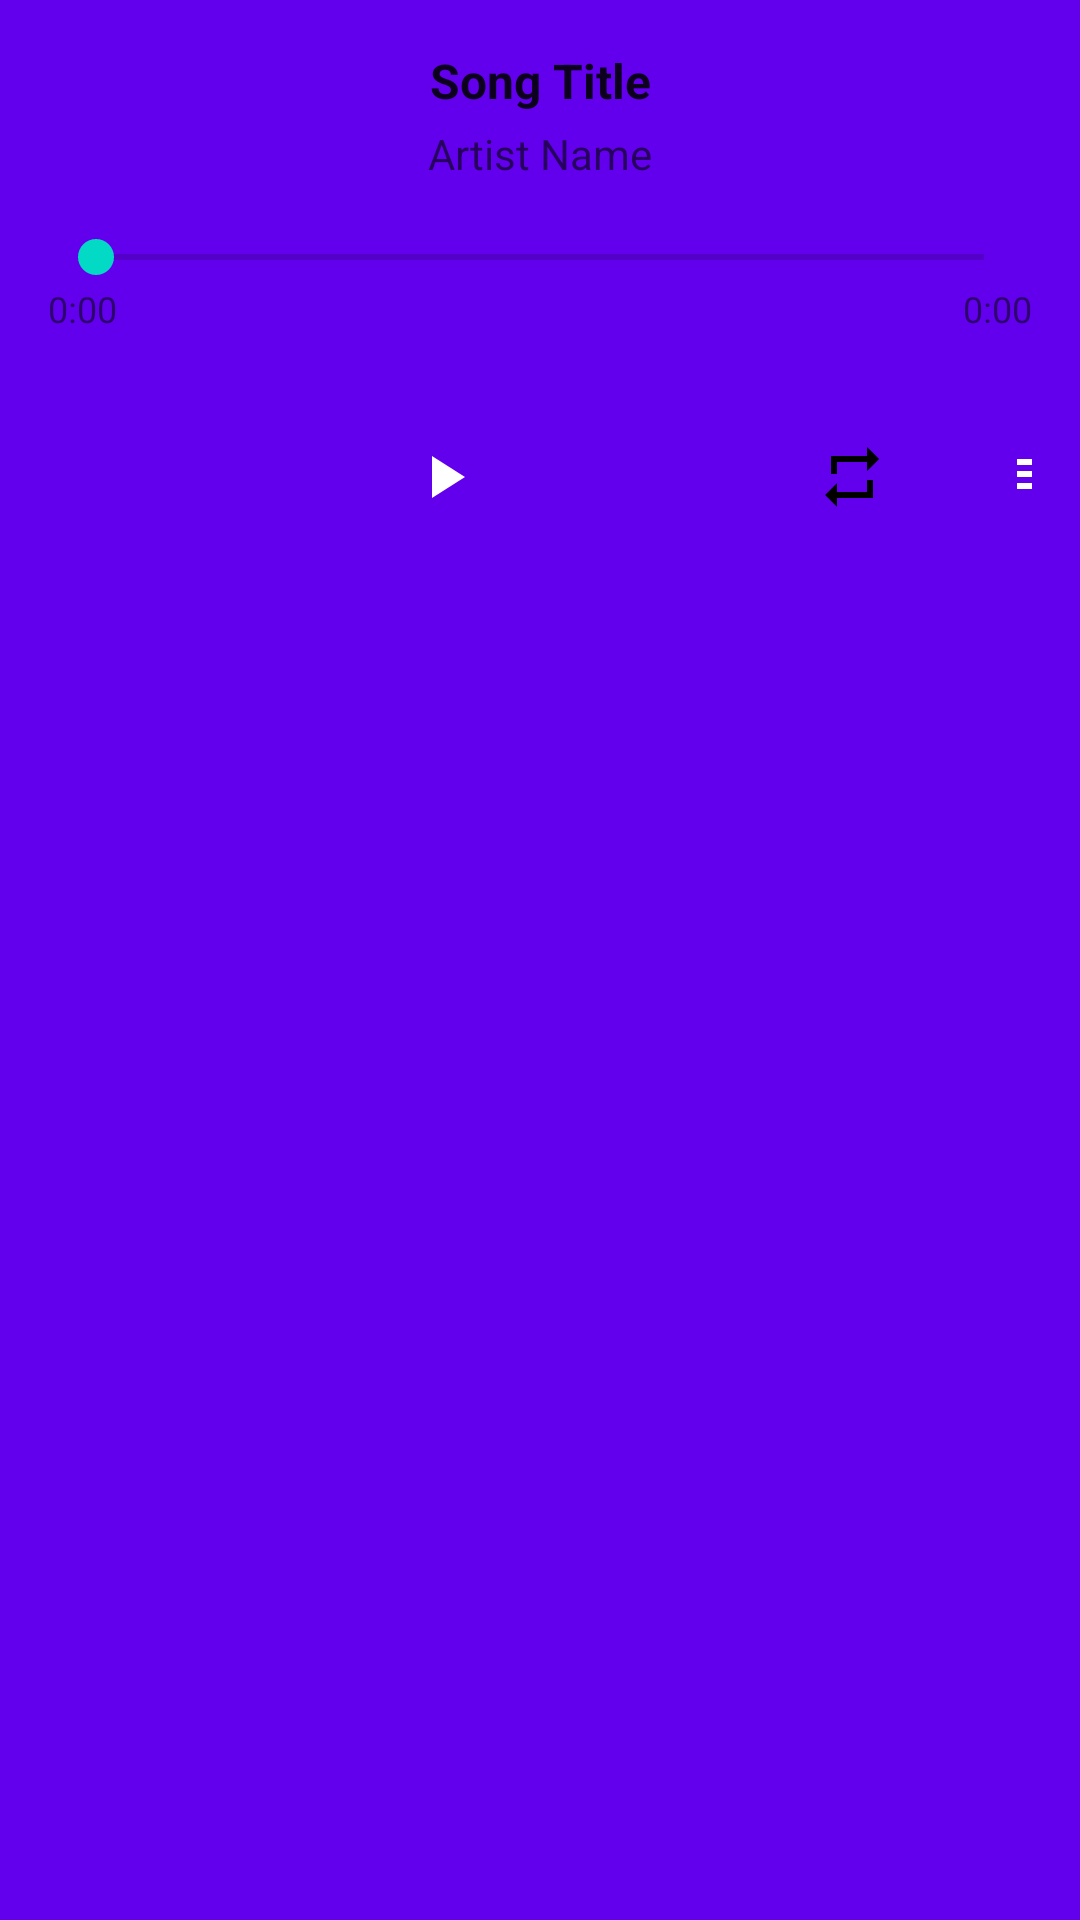

Point at icon controls on the screen. Image size 1080px x 1920px, points as [x,y].
play: [448,477]
repeat: [852,477]
